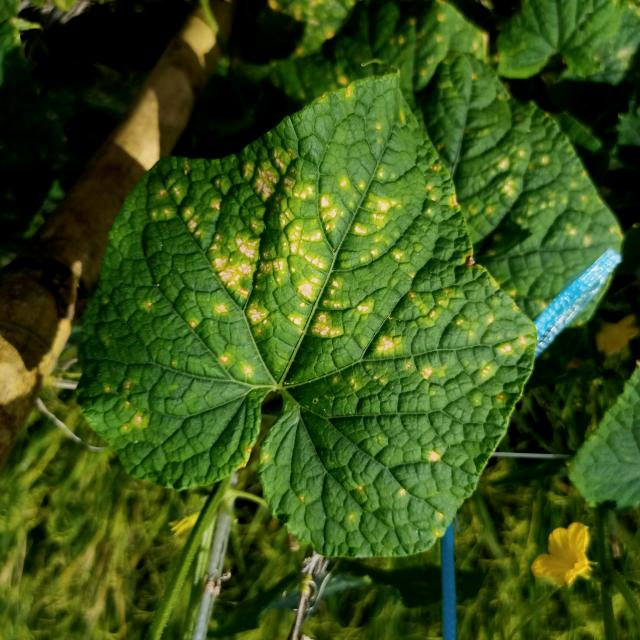disease_cucumber: (80, 110, 523, 518)
